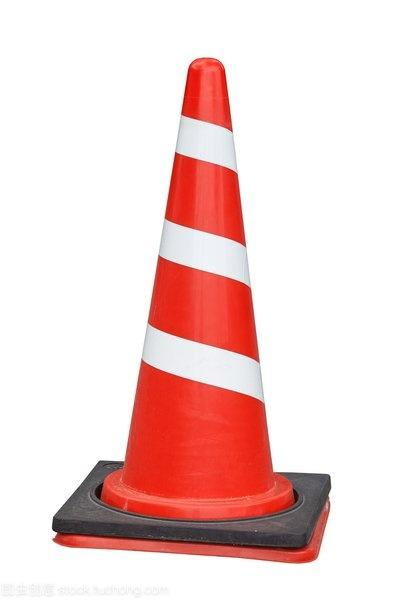cone_barrel: (105, 52, 295, 526)
